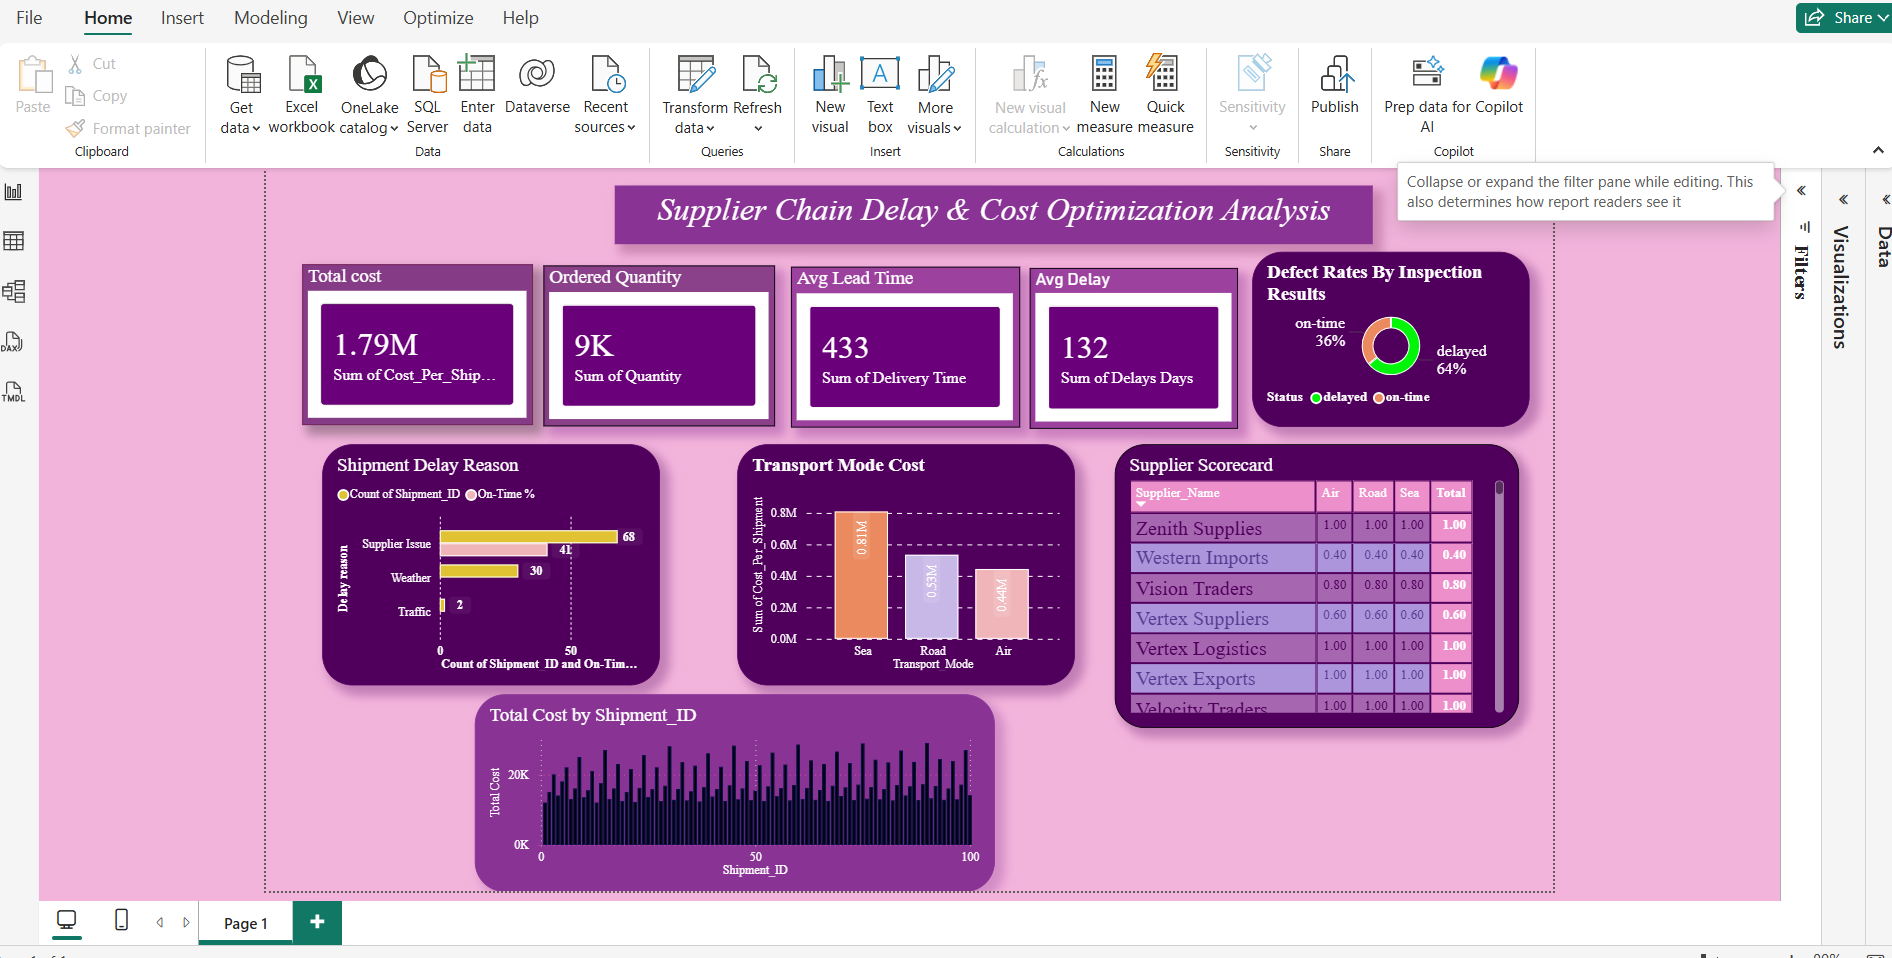

Layout of this report page (visuals, bound fields, positions):
{"tool":"powerbi","page":{"name":"Page 1","canvas":[1280,720],"ordinal":0},"visuals":[{"type":"textbox","box":[346.7,17.7,754.8,58.7],"z":0},{"type":"cardVisual","title":"Total cost","fields":{"Data":["Sum(shipments.Cost_Per_Shipment)"]},"box":[35.5,95.5,229.3,159.7],"z":1000},{"type":"cardVisual","title":"Ordered Quantity","fields":{"Data":["Sum(shipments.Quantity)"]},"box":[275.7,96.9,230.7,159.7],"z":2000},{"type":"cardVisual","title":"Avg  Lead Time ","fields":{"Data":["Sum(shipments.Delivery Time)"]},"box":[522.8,98.3,227.9,159.7],"z":3000},{"type":"cardVisual","title":"Avg Delay ","fields":{"Data":["Sum(shipments.Delays Days)"]},"box":[760.2,99.6,207.5,159.7],"z":4000},{"type":"donutChart","title":"Defect Rates By Inspection Results","fields":{"Category":["shipments.Status"],"Y":["CountNonNull(shipments.Shipment_ID)"]},"box":[981.4,83.3,275.7,174.7],"z":5000},{"type":"clusteredBarChart","title":"Shipment Delay Reason","fields":{"Category":["shipments.Delay reason","supplier.Supplier_Name"],"Y":["CountNonNull(shipments.Shipment_ID)","shipments.On-Time %"]},"box":[56,274.3,335.8,240.2],"z":6000},{"type":"clusteredColumnChart","title":"Transport Mode Cost","fields":{"Category":["transport_mode.Transport_Mode"],"Y":["Sum(shipments.Cost_Per_Shipment)"]},"box":[469.5,274.3,335.8,240.2],"z":7000},{"type":"pivotTable","title":"Supplier Scorecard","fields":{"Rows":["supplier.Supplier_Name"],"Columns":["transport_mode.Transport_Mode"],"Values":["shipments.Performance Score"]},"box":[844.9,274.3,402.6,282.5],"z":8000},{"type":"columnChart","fields":{"Category":["shipments.Shipment_ID"],"Y":["shipments.Total Cost"]},"box":[207.5,524.1,517.3,196.5],"z":9000}]}

Visuals, with their boxes on the page's 1280x720 design canvas (x1, y1, x2, y2). These are canvas units, not pixel positions in the 1892x958 screenshot, which may show the page scaled, cropped or inside an application window:
textbox: 347:18:1102:76
"Total cost" cardVisual: 36:96:265:255
"Ordered Quantity" cardVisual: 276:97:506:257
"Avg  Lead Time " cardVisual: 523:98:751:258
"Avg Delay " cardVisual: 760:100:968:259
"Defect Rates By Inspection Results" donutChart: 981:83:1257:258
"Shipment Delay Reason" clusteredBarChart: 56:274:392:514
"Transport Mode Cost" clusteredColumnChart: 470:274:805:514
"Supplier Scorecard" pivotTable: 845:274:1248:557
columnChart - shipments.Shipment_ID x shipments.Total Cost: 208:524:725:721
